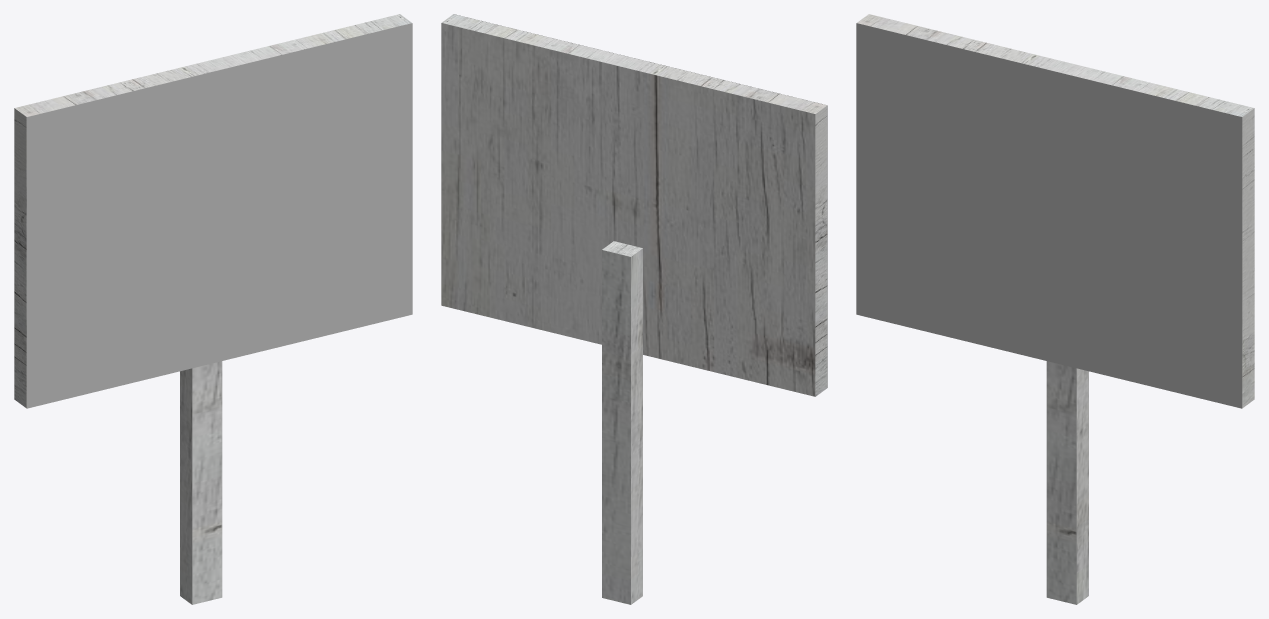
The model's file is tutlerabbit.fbx.
3 views of the same model, side by side, from view 1: azimuth 30°, elevation 25°; view 2: azimuth 150°, elevation 25°; view 3: azimuth 330°, elevation 25° (orthographic). The views are drawn at different scales.
Visible parts, largest first — view 1: Plane001, Box002; view 2: Box002; view 3: Plane001, Box002.
Part boxes in pixels (left/top/right/bottom): Plane001: left=27, top=23, right=412, bottom=408; Box002: left=14, top=14, right=411, bottom=604; Box002: left=441, top=14, right=827, bottom=604; Plane001: left=856, top=23, right=1241, bottom=408; Box002: left=857, top=14, right=1254, bottom=604.
Bounding box in the file's own units: 90 × 10.06 × 120.
